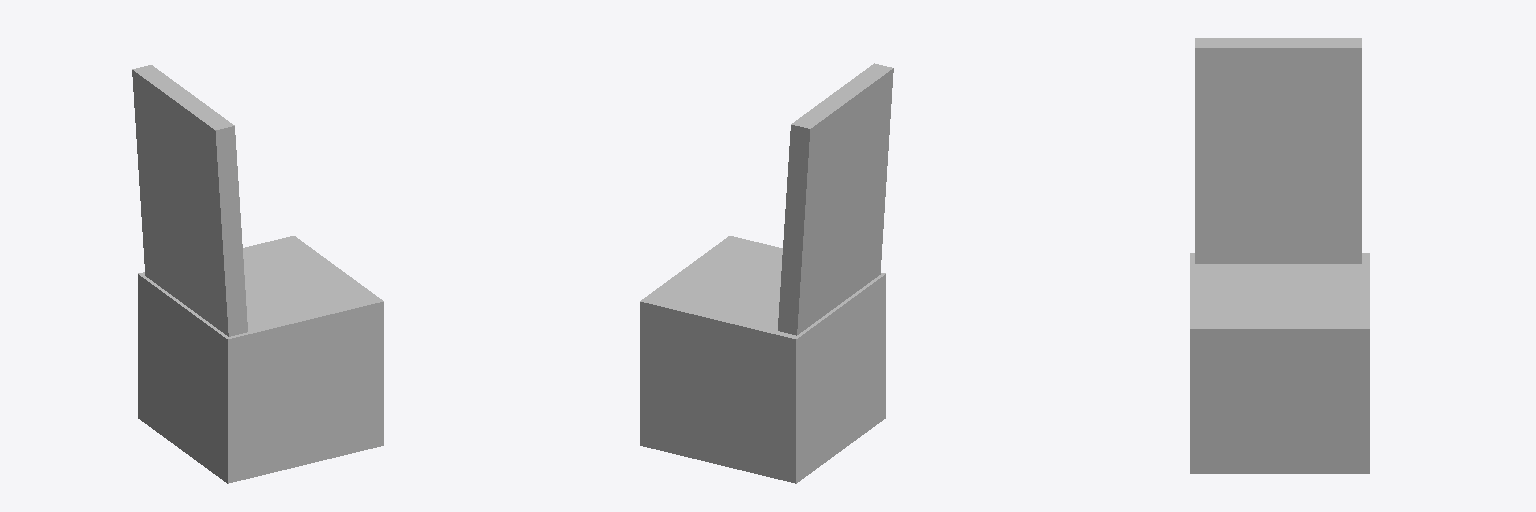
File: Chair-LOD1.obj
3 views of the same model, side by side, from view 1: azimuth 30°, elevation 25°; view 2: azimuth 150°, elevation 25°; view 3: azimuth 270°, elevation 25° (orthographic).
Parts seen in each view (by area): view 1: Bottom_Cube.026, Top_Cube.027; view 2: Bottom_Cube.026, Top_Cube.027; view 3: Bottom_Cube.026, Top_Cube.027.
Part boxes in pixels (bbox=[...]): Bottom_Cube.026: bbox=[138, 236, 383, 483]; Top_Cube.027: bbox=[132, 65, 247, 336]; Bottom_Cube.026: bbox=[640, 236, 885, 483]; Top_Cube.027: bbox=[778, 63, 893, 335]; Bottom_Cube.026: bbox=[1190, 253, 1369, 473]; Top_Cube.027: bbox=[1195, 38, 1361, 263].
Bounding box in the file's own units: 3.02 × 6.15 × 2.84.